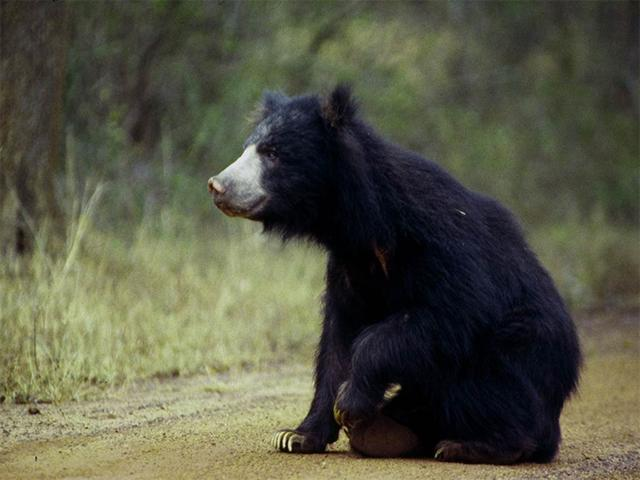bear: (157, 64, 598, 451)
